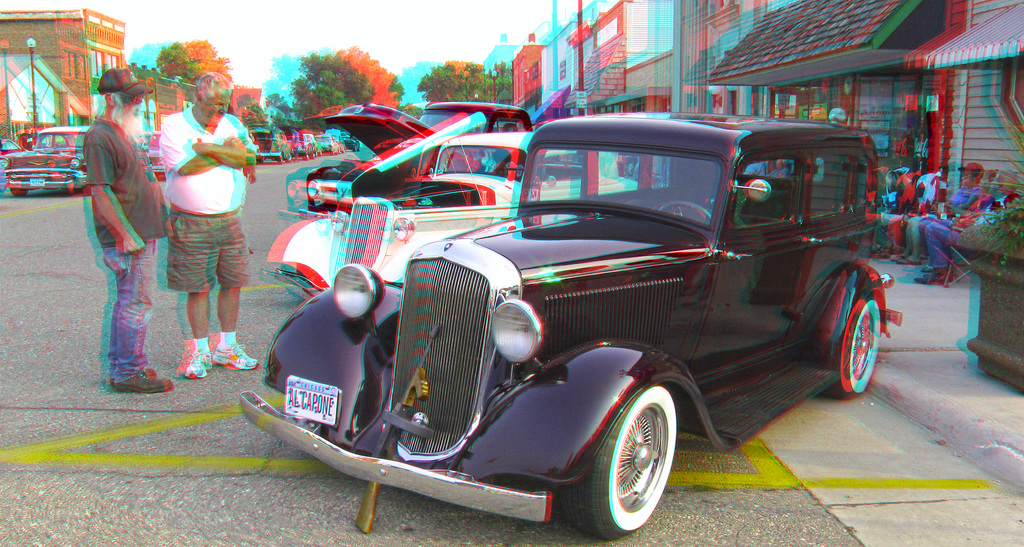Car: (233, 110, 874, 529), (273, 115, 633, 310), (0, 120, 361, 199), (305, 96, 536, 212), (1, 119, 94, 192), (254, 126, 294, 160), (291, 131, 319, 156), (0, 133, 22, 162), (333, 130, 359, 151), (311, 130, 334, 151)
